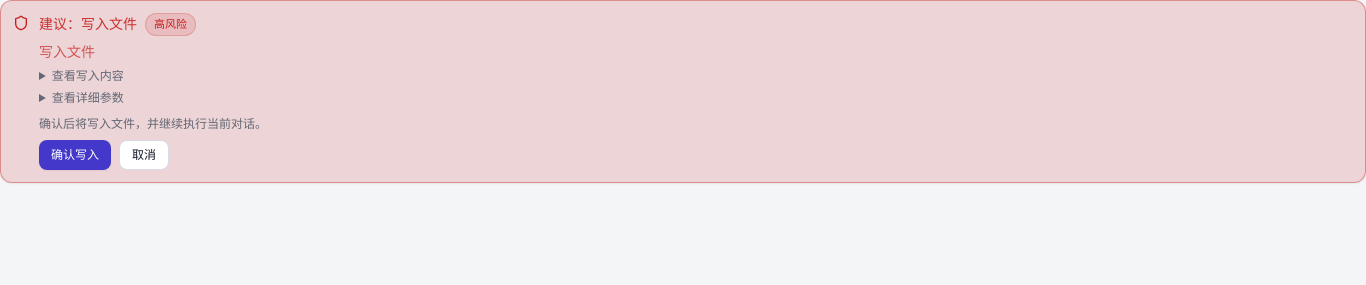
Test: ConfirmationDialog › renders suggestion framing and expandable arguments for write_file
The width and height of the screenshot is (1366, 285).
expect the heading "建议：写入文件" is shown: met, box left=39, top=14, right=137, bottom=34
expect the text "确认后将写入文件，并继续执行当前对话。" is shown: met, box left=39, top=116, right=267, bottom=130
What coordinates should you click on to do the following:
click the heading "查看详细参数"
I would click on:
 (88, 97)
Its box is left=52, top=90, right=124, bottom=104.
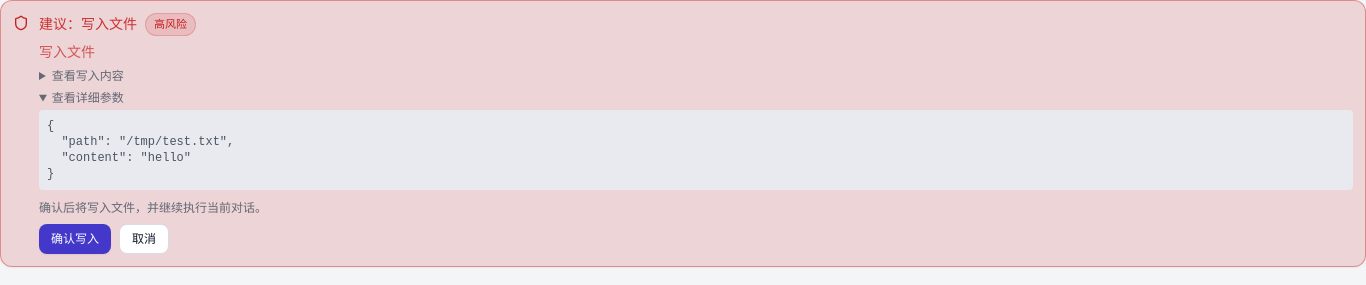
expect the text "{ \"path\": \"/tmp/test.txt\", \"content\": \"hello\" }" is shown: met, box left=39, top=110, right=1353, bottom=190
